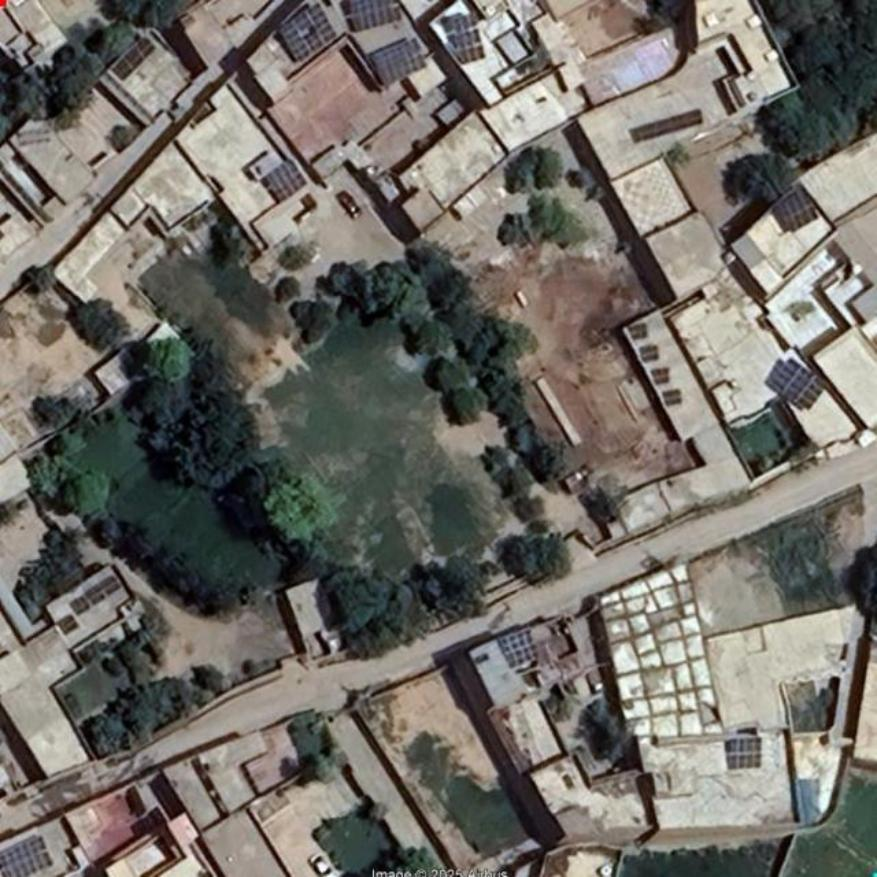Solarpanel: (276, 3, 334, 66), (768, 357, 829, 408), (370, 39, 425, 88), (631, 108, 705, 142), (446, 12, 487, 66), (0, 838, 51, 876), (111, 36, 155, 79), (773, 187, 815, 229), (267, 159, 306, 203), (350, 0, 403, 31), (500, 631, 539, 665), (728, 737, 761, 768), (86, 576, 121, 605), (60, 614, 78, 635), (69, 598, 88, 612)
